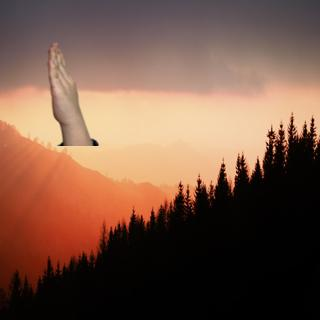RIGHT: (45, 40, 84, 129)
